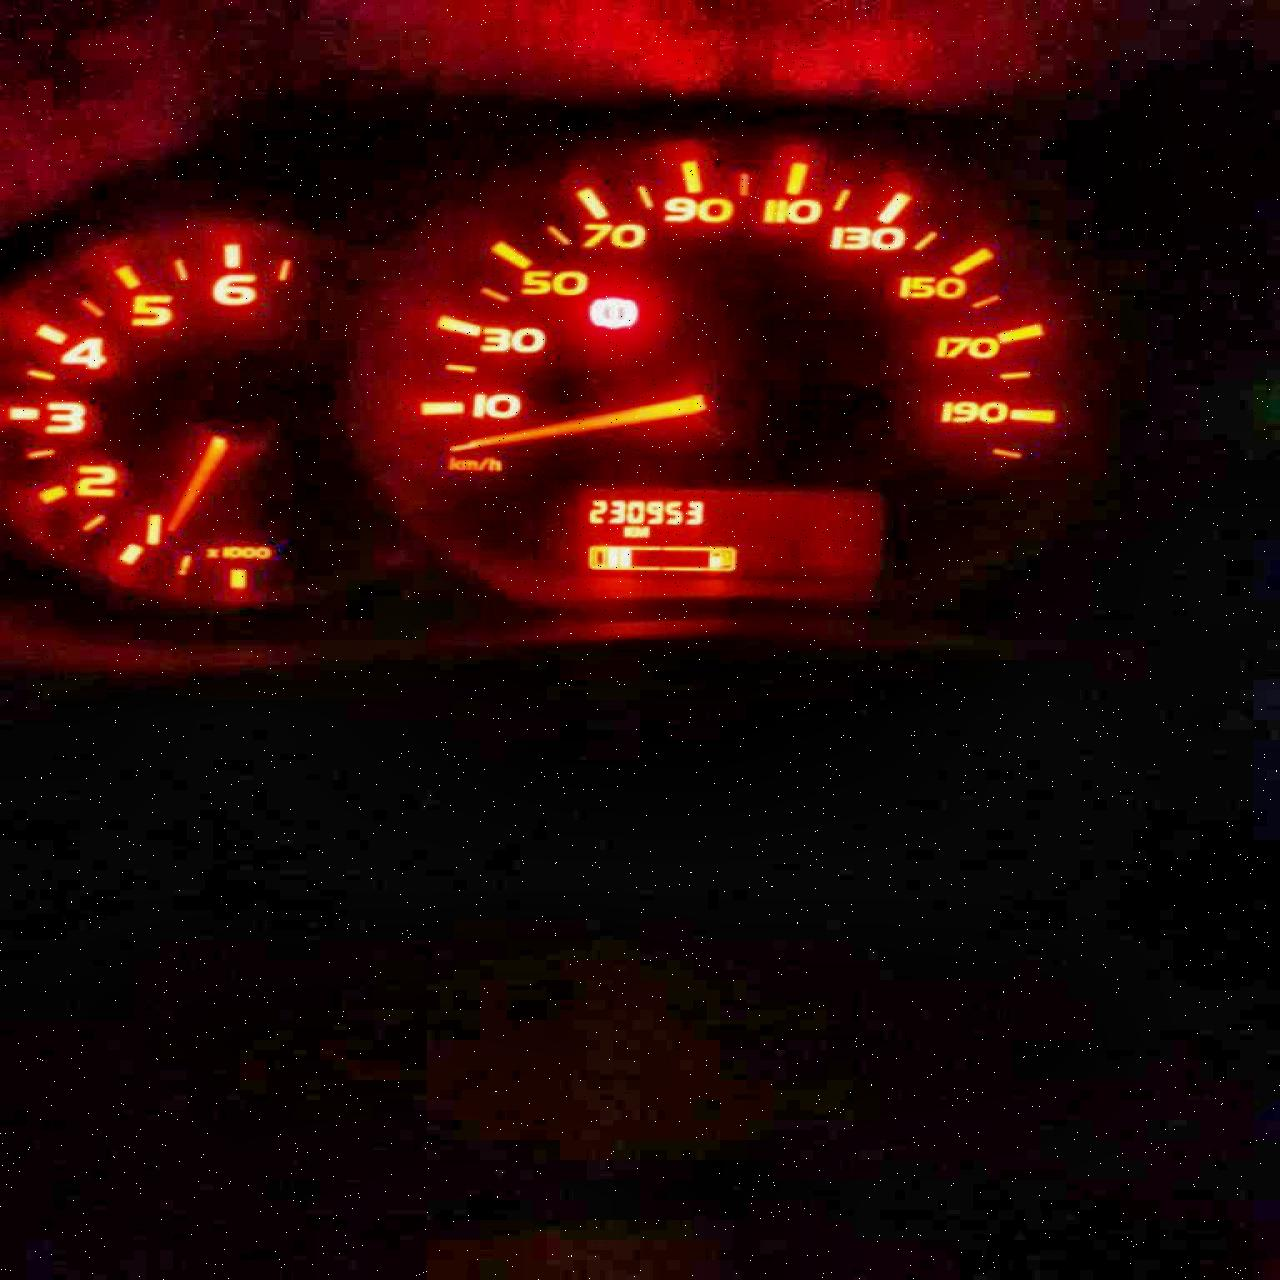0: (625, 499, 645, 525)
2: (586, 497, 606, 524)
3: (607, 497, 625, 525), (685, 499, 703, 525)
5: (663, 499, 685, 525)
9: (644, 498, 663, 524)
X: (633, 525, 649, 537), (621, 525, 633, 537)
odometer: (565, 479, 890, 588)
